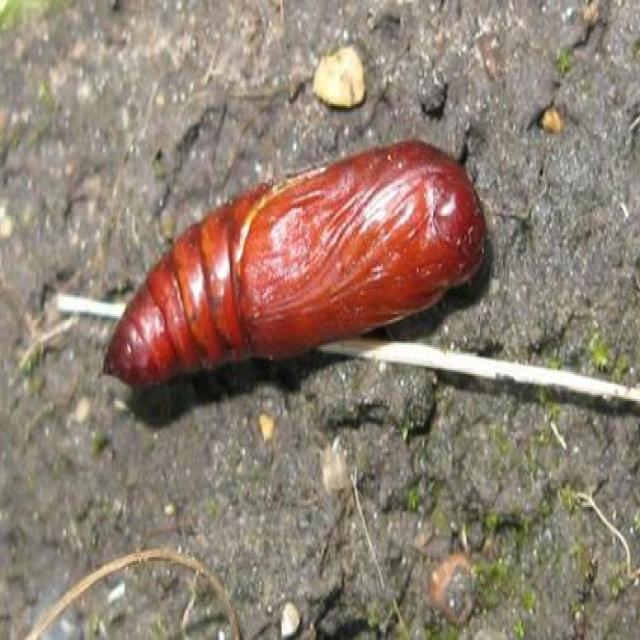armyworm: (107, 160, 480, 399)
